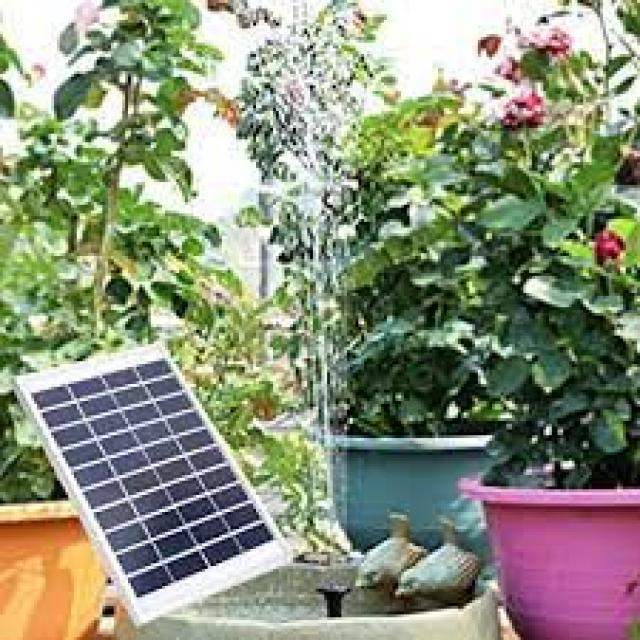no faulty: (14, 348, 270, 596)
